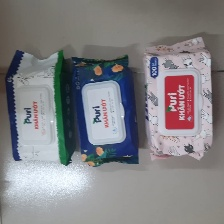Puri Trang: (5, 47, 76, 167)
Puri Xanh: (69, 51, 144, 170)
Puri hong: (144, 36, 216, 162)
